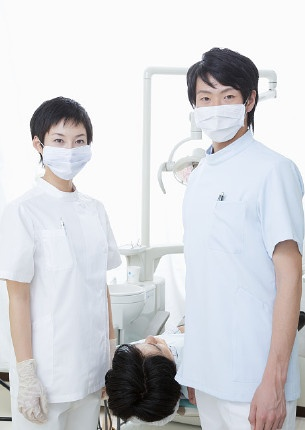Mask: (42, 130, 93, 182)
